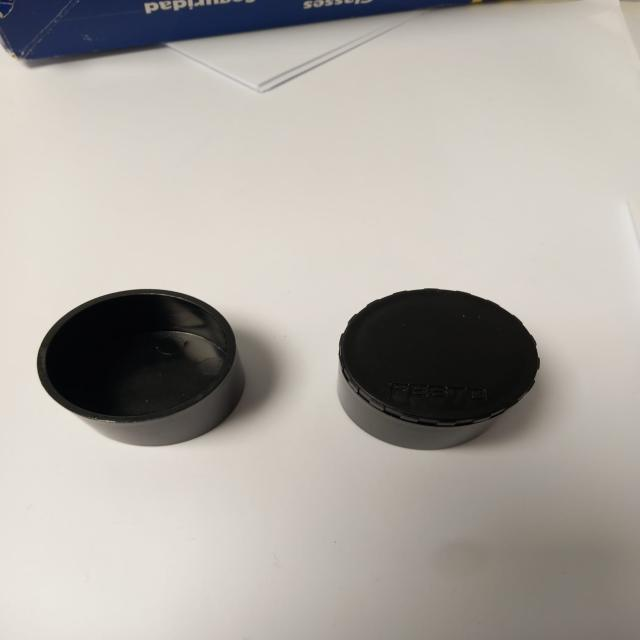NoLid: (20, 267, 272, 467)
Workpiece: (331, 275, 549, 452)
